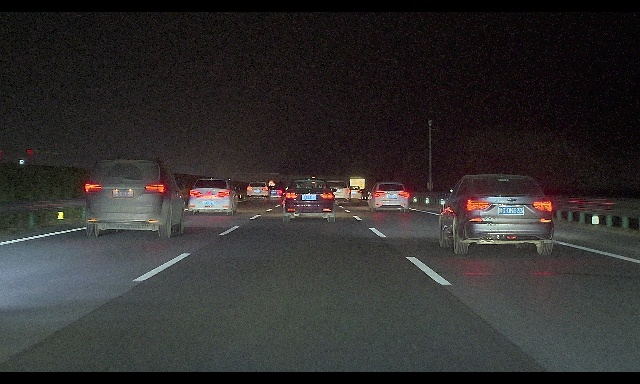car: (436, 171, 554, 255), (85, 159, 186, 239), (282, 178, 337, 223), (188, 177, 241, 216), (366, 181, 410, 213), (323, 181, 352, 206), (246, 180, 272, 203), (344, 186, 362, 202), (267, 185, 283, 199)
